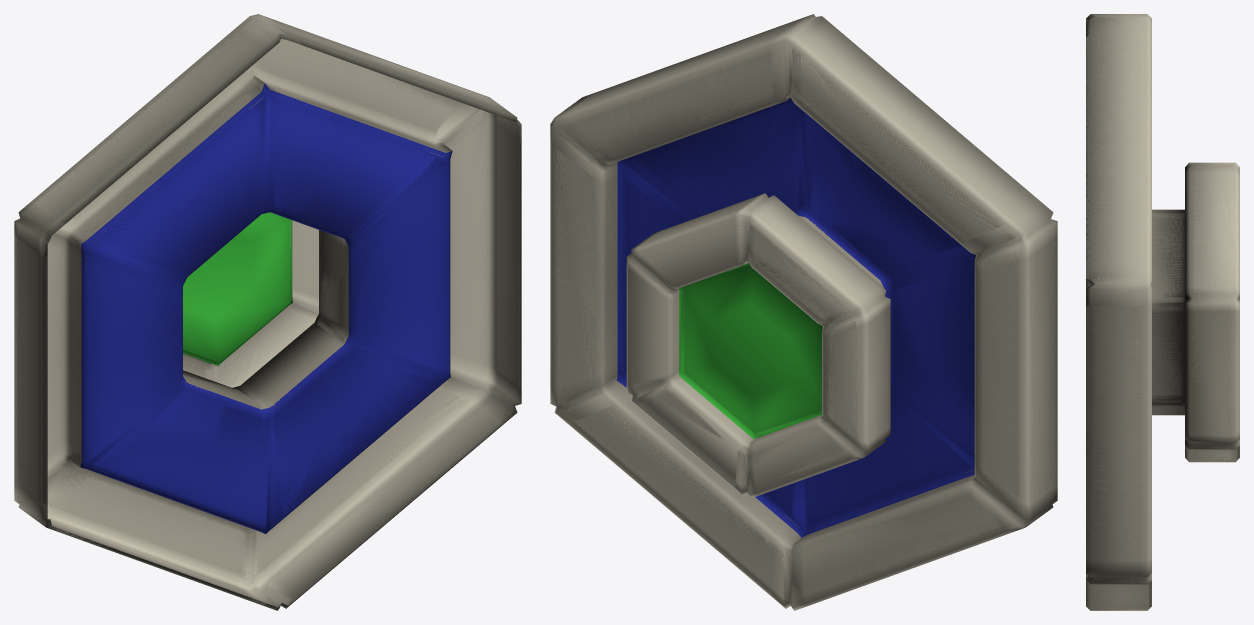
The model's file is Fontain.fbx.
3 views of the same model, side by side, from view 1: azimuth 30°, elevation 25°; view 2: azimuth 150°, elevation 25°; view 3: azimuth 270°, elevation 25° (orthographic). The views are drawn at different scales.
Parts seen in each view (by area): view 1: Fountain; view 2: Fountain; view 3: Fountain.
Part boxes in pixels (<box>): Fountain: <box>14,14,521,610</box>; Fountain: <box>550,14,1057,610</box>; Fountain: <box>1086,14,1239,610</box>.
Bounding box in the file's own units: 51962 × 59467 × 14000.
